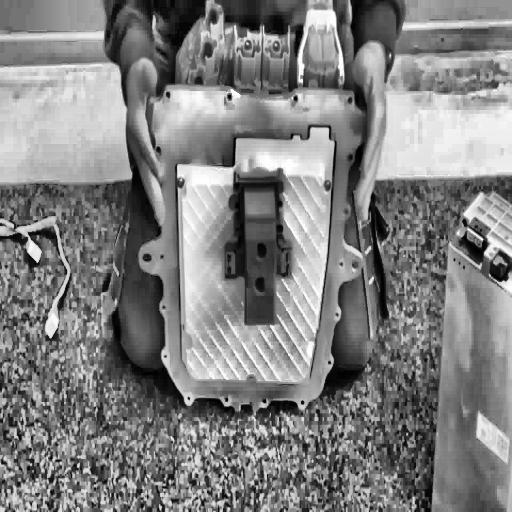bms_unit: (142, 0, 362, 415)
connector: (222, 171, 294, 335)
